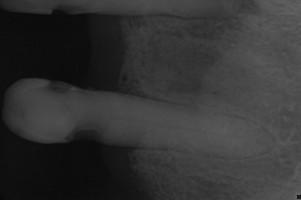Furcation Involvement: (237, 0, 260, 14)
